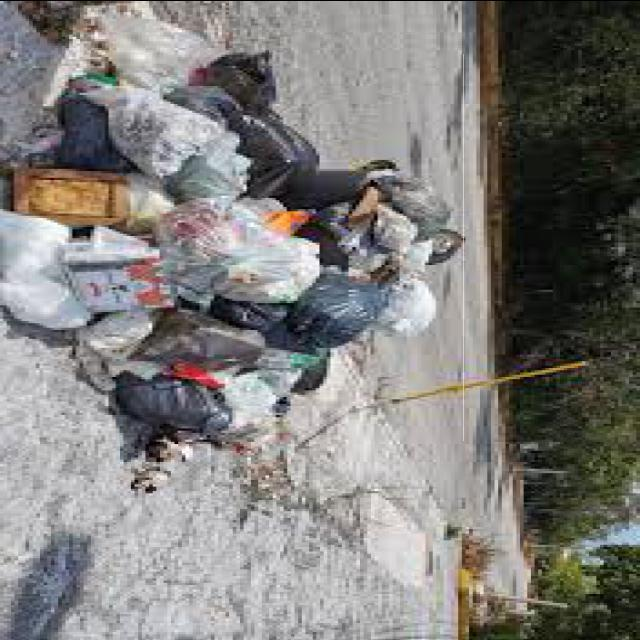Trashbag: (109, 366, 241, 442), (283, 271, 399, 348), (236, 105, 324, 199), (203, 46, 283, 114), (56, 98, 128, 172)
